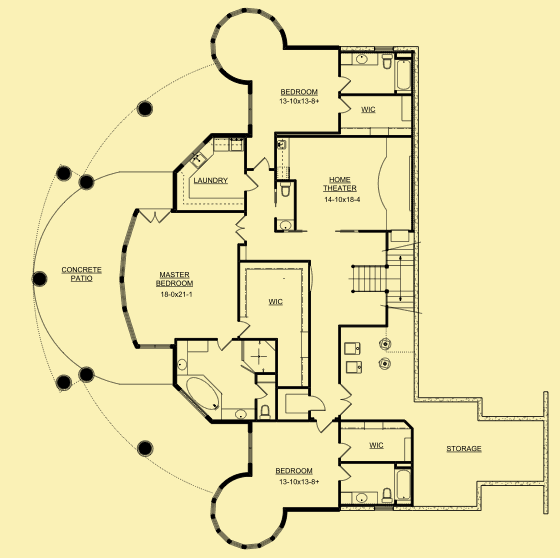door: (135, 200, 174, 228), (336, 380, 354, 420), (232, 210, 251, 243), (306, 392, 329, 416), (336, 94, 355, 120), (313, 414, 335, 435), (335, 434, 352, 460), (242, 171, 260, 195), (250, 156, 271, 176), (213, 335, 233, 354), (231, 316, 251, 335), (336, 461, 353, 481), (333, 73, 352, 90)
large sink: (258, 402, 274, 423), (377, 52, 394, 69), (377, 486, 394, 503), (277, 182, 292, 199)
small sink: (341, 490, 379, 507), (340, 53, 379, 68), (177, 339, 190, 376), (222, 408, 253, 420), (274, 215, 293, 234)
stairs: (346, 232, 418, 316)
tub: (185, 376, 223, 416), (393, 467, 415, 507), (396, 55, 414, 93)
windows: (243, 87, 257, 125), (246, 428, 256, 469)
